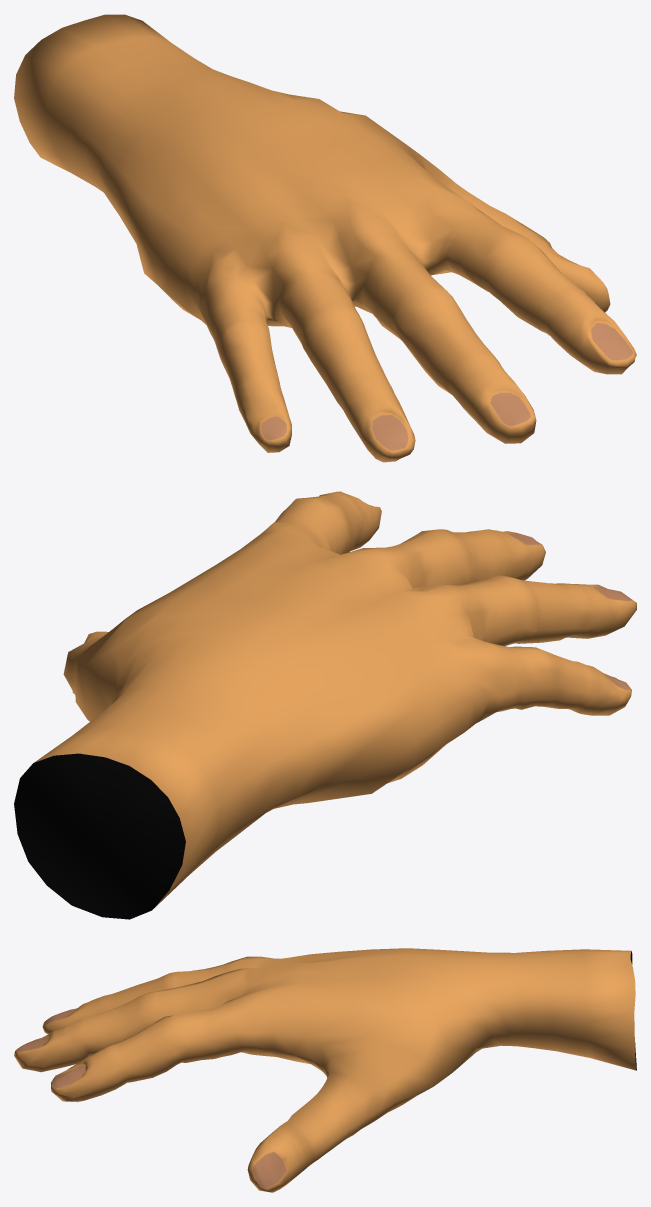
File: mano.fbx
3 renders of one model, top to bottom at view 1: azimuth 30°, elevation 25°; view 2: azimuth 150°, elevation 25°; view 3: azimuth 270°, elevation 25°, orthographic. The views are drawn at different scales.
Visible parts, largest first — view 1: mano; view 2: mano; view 3: mano.
Boxes of the visible parts, x1=… form: mano: x1=14, y1=14, x2=636, y2=462; mano: x1=14, y1=491, x2=636, y2=919; mano: x1=14, y1=948, x2=636, y2=1192.
Size of the model in its own units: 275 by 121 by 468.
